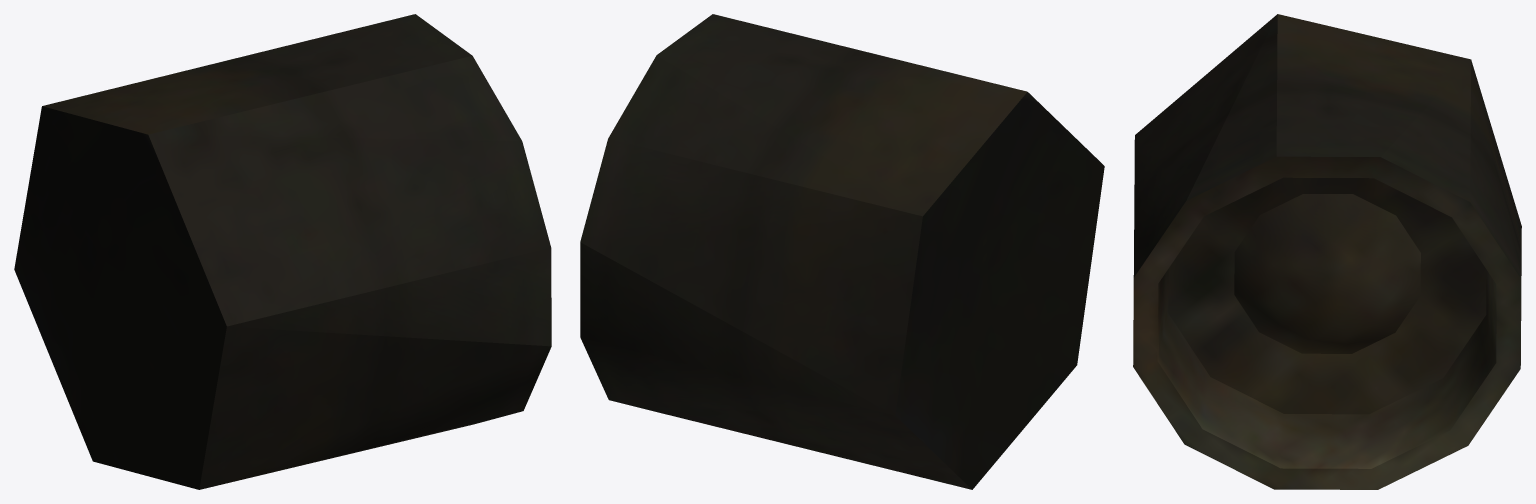
File: FrontWheel.fbx
3 renders of one model, left to right at view 1: azimuth 30°, elevation 25°; view 2: azimuth 150°, elevation 25°; view 3: azimuth 270°, elevation 25°, orthographic. The views are drawn at different scales.
Parts seen in each view (by area): view 1: FrontWheel; view 2: FrontWheel; view 3: FrontWheel.
Boxes of the visible parts, bbox=[...] form: FrontWheel: bbox=[14, 14, 551, 489]; FrontWheel: bbox=[580, 14, 1104, 489]; FrontWheel: bbox=[1133, 14, 1521, 489].
Size of the model in its own units: 0.4495 by 0.4869 by 0.5145.
